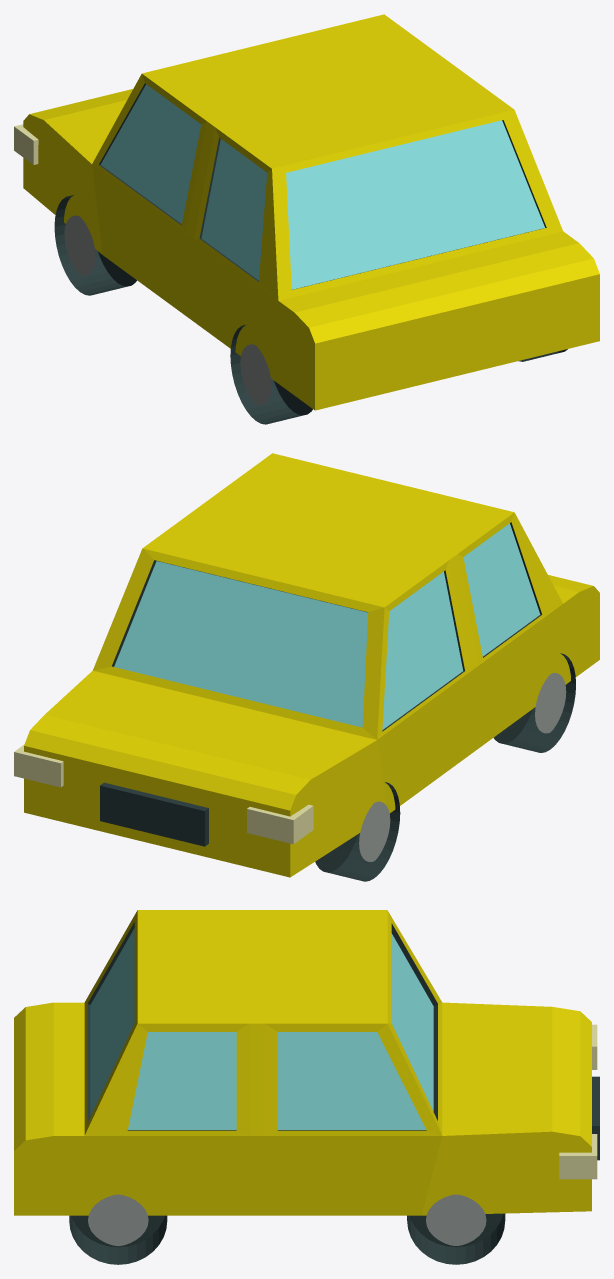
File: yellow car.fbx
3 views of the same model, one above another, from view 1: azimuth 30°, elevation 25°; view 2: azimuth 150°, elevation 25°; view 3: azimuth 270°, elevation 25° (orthographic). The views are drawn at different scales.
Visible parts, largest first — view 1: Cube; view 2: Cube; view 3: Cube.
Part boxes in pixels (left/top/right/bottom): Cube: left=14, top=14, right=599, bottom=424; Cube: left=14, top=453, right=599, bottom=881; Cube: left=14, top=910, right=599, bottom=1264.
Size of the model in its own units: 207 by 160 by 371.
